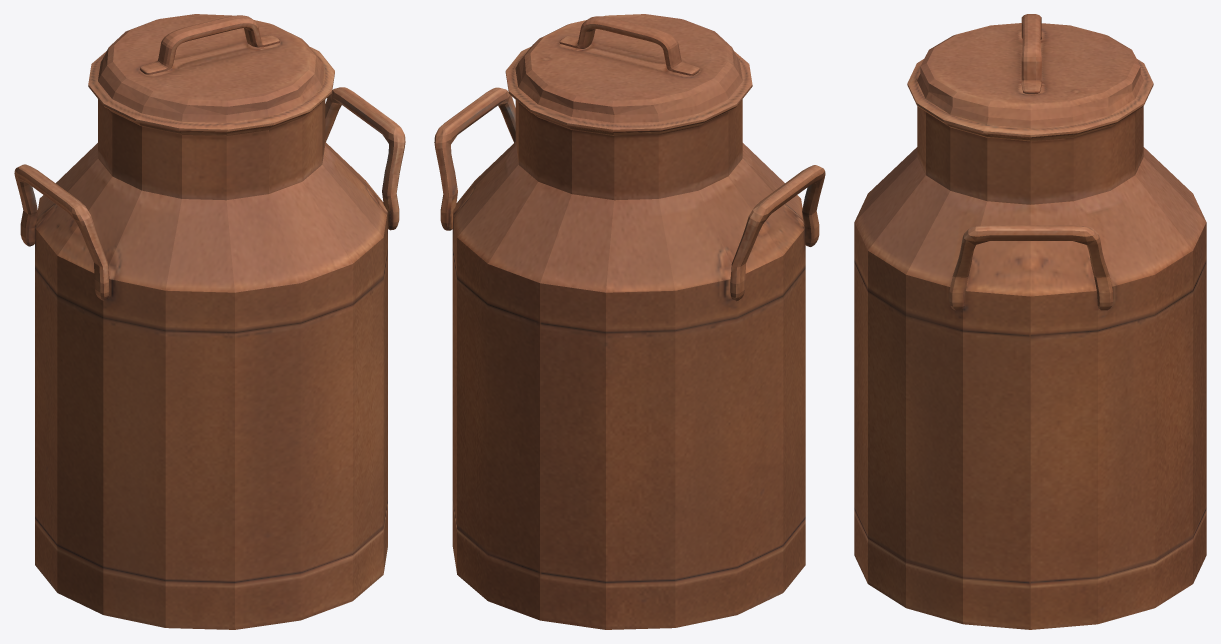
File: MilkCan.fbx
The picture shows the model from 3 angles, left to right: view 1: azimuth 30°, elevation 25°; view 2: azimuth 150°, elevation 25°; view 3: azimuth 270°, elevation 25°; orthographic projection.
Visible parts, largest first — view 1: MilkCan_Low; view 2: MilkCan_Low; view 3: MilkCan_Low.
Part boxes in pixels (x1,y1,x2,y2): MilkCan_Low: (14, 14, 405, 629); MilkCan_Low: (434, 14, 825, 629); MilkCan_Low: (854, 14, 1206, 629).
Size of the model in its own units: 0.6505 by 0.9972 by 0.6053.
